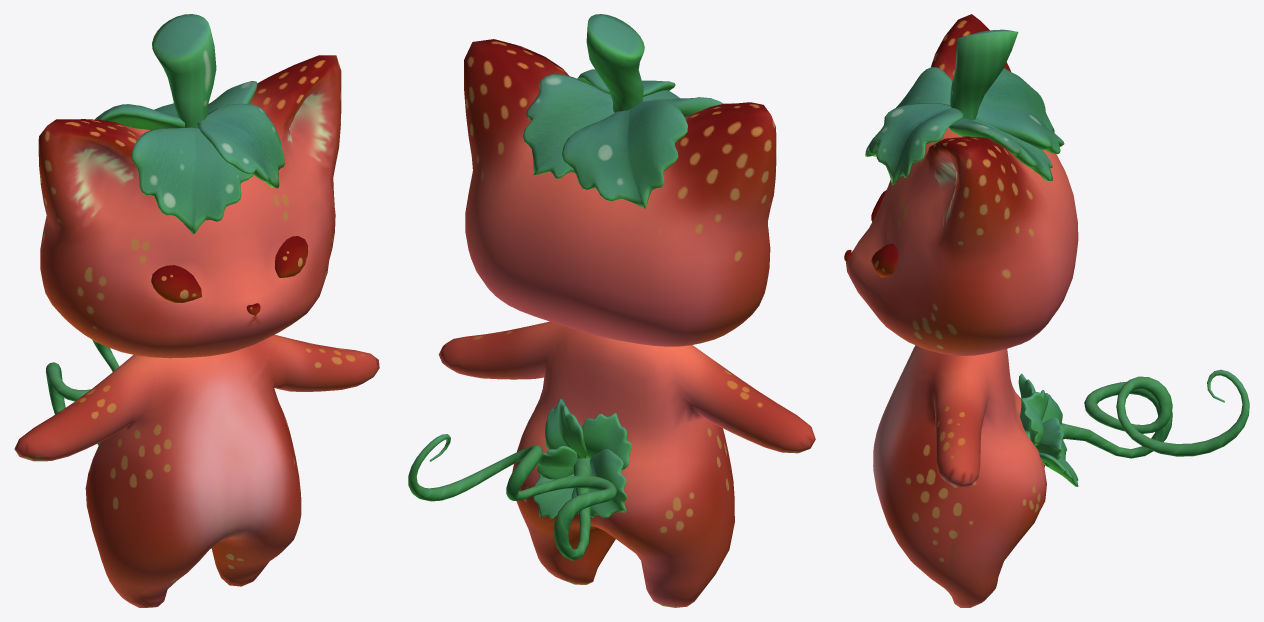
The model's file is strawberry cat.fbx.
3 renders of one model, left to right at view 1: azimuth 30°, elevation 25°; view 2: azimuth 150°, elevation 25°; view 3: azimuth 270°, elevation 25°, orthographic. The views are drawn at different scales.
Visible parts, largest first — view 1: head, body, green.001, eye, green; view 2: head, body, green.001, green; view 3: head, body, green.001, green, eye.
Part boxes in pixels (x1,y1,x2,y2): head: (38,55,341,358); body: (14,334,379,607); green.001: (95,14,284,234); eye: (151,236,308,302); green: (45,340,119,445); head: (464,39,776,346); body: (438,321,815,607); green.001: (523,14,723,208); green: (408,398,631,560); head: (846,14,1078,355); body: (873,345,1046,607); green.001: (865,29,1064,185); green: (1018,369,1249,486); eye: (871,190,897,277).
Bounding box in the file's own units: 349 × 521 × 342.
Materials: 1 (1 with a texture image).
